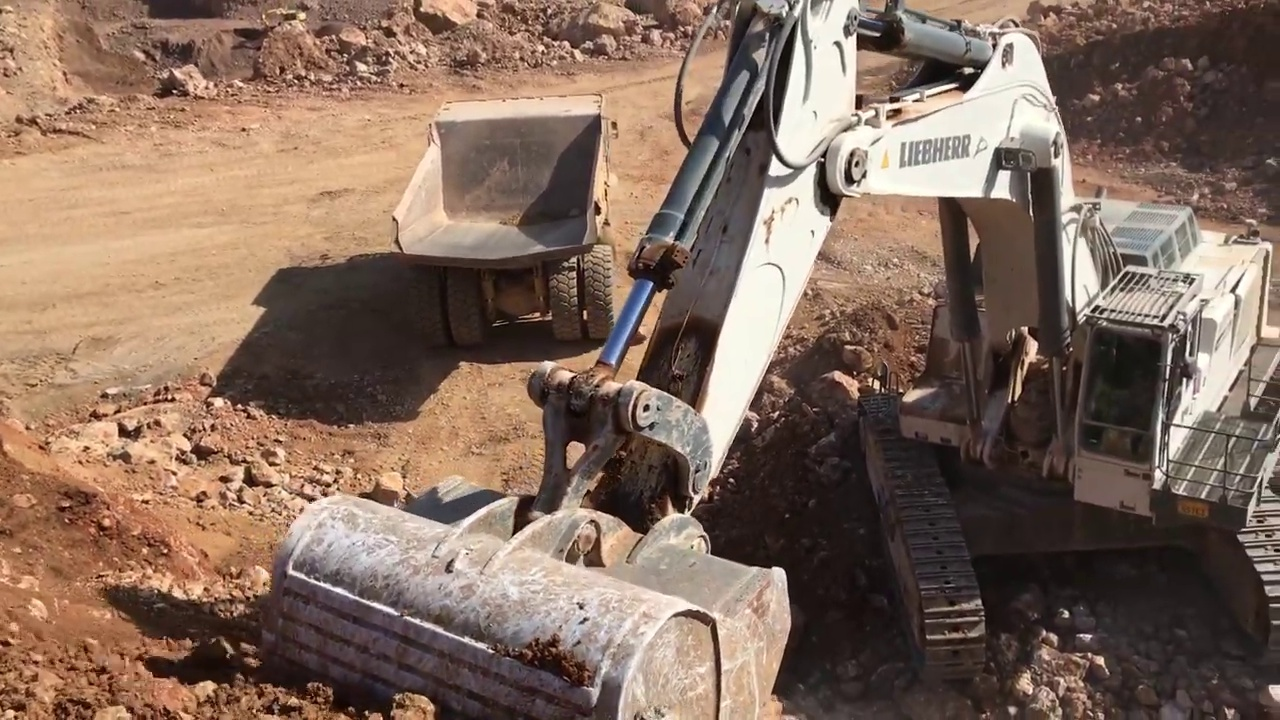dumper: (389, 94, 615, 344)
excavator: (269, 1, 1277, 720)
